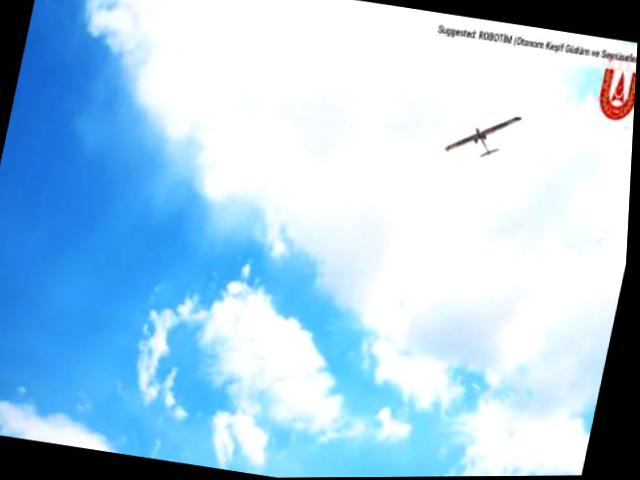uav: (440, 103, 525, 167)
